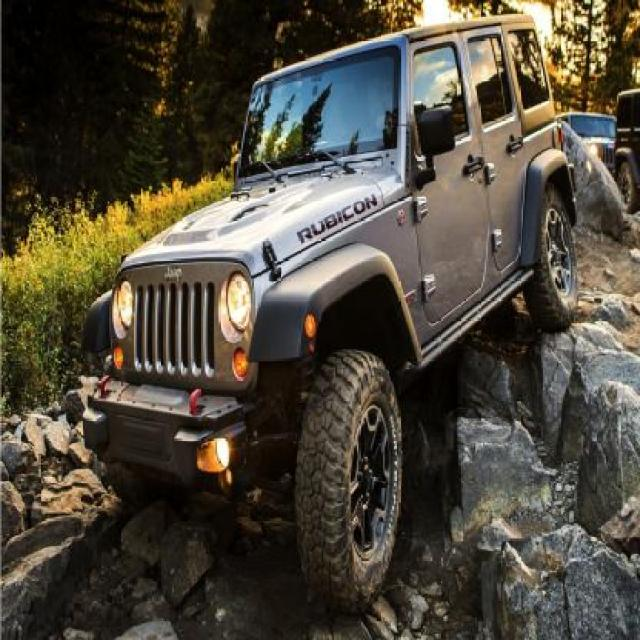Jeep: (82, 10, 580, 622)
